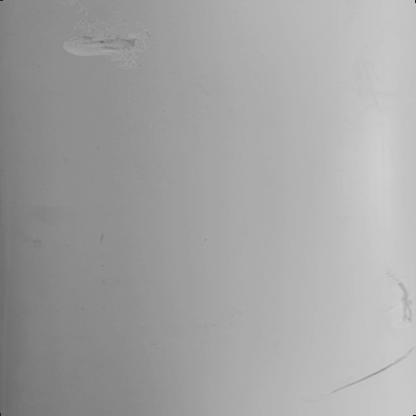sunshang: (60, 8, 147, 62), (327, 348, 416, 393), (383, 278, 416, 325)
